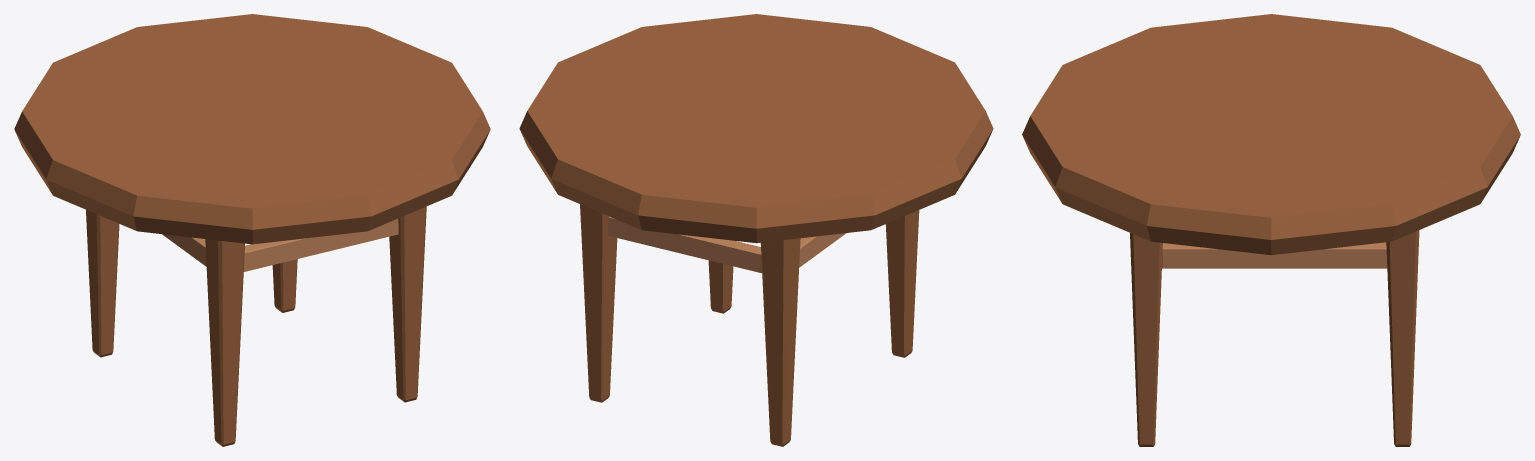
The picture shows the model from 3 angles, left to right: view 1: azimuth 30°, elevation 25°; view 2: azimuth 150°, elevation 25°; view 3: azimuth 270°, elevation 25°; orthographic projection. The views are drawn at different scales.
Parts seen in each view (by area): view 1: Rounded table B; view 2: Rounded table B; view 3: Rounded table B.
Boxes of the visible parts, x1,y1,x2,y2 form: Rounded table B: [14, 14, 490, 446]; Rounded table B: [519, 14, 993, 446]; Rounded table B: [1022, 14, 1520, 446].
Bounding box in the file's own units: 5.74 × 3.55 × 5.74.
